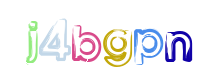4: (45, 0, 125, 80)
B: (68, 0, 148, 80)
G: (76, 0, 156, 80)
J: (24, 0, 104, 80)
N: (139, 0, 219, 80)
P: (113, 0, 193, 80)
